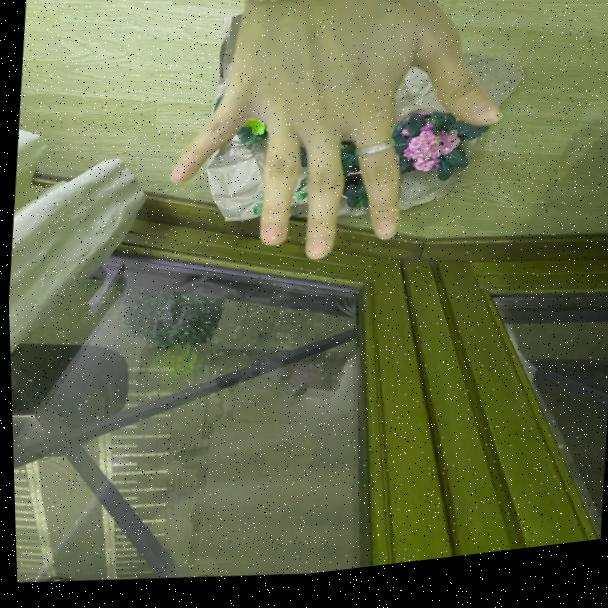five: (152, 0, 516, 300)
